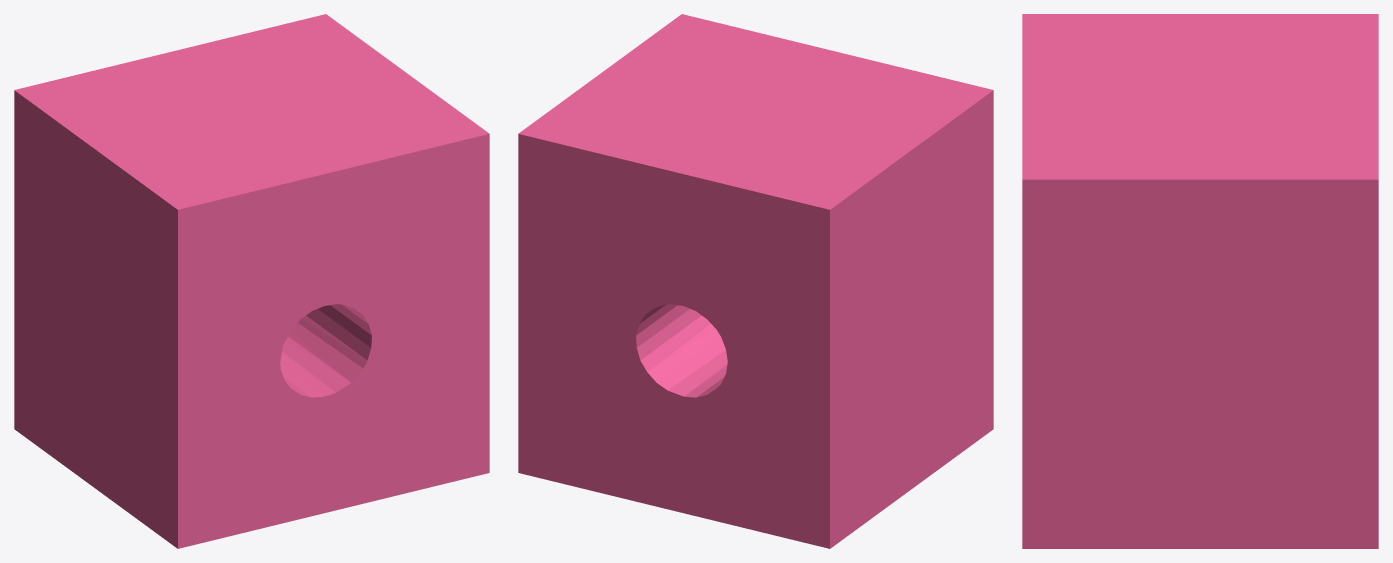
File: dc motor snap v3.obj
3 views of the same model, side by side, from view 1: azimuth 30°, elevation 25°; view 2: azimuth 150°, elevation 25°; view 3: azimuth 270°, elevation 25° (orthographic). The views are drawn at different scales.
Parts seen in each view (by area): view 1: obj_0; view 2: obj_0; view 3: obj_0.
Part boxes in pixels (<box>): obj_0: <box>14,14,489,548</box>; obj_0: <box>518,14,993,548</box>; obj_0: <box>1022,14,1378,548</box>.
Bounding box in the file's own units: 7.7 × 8 × 7.
